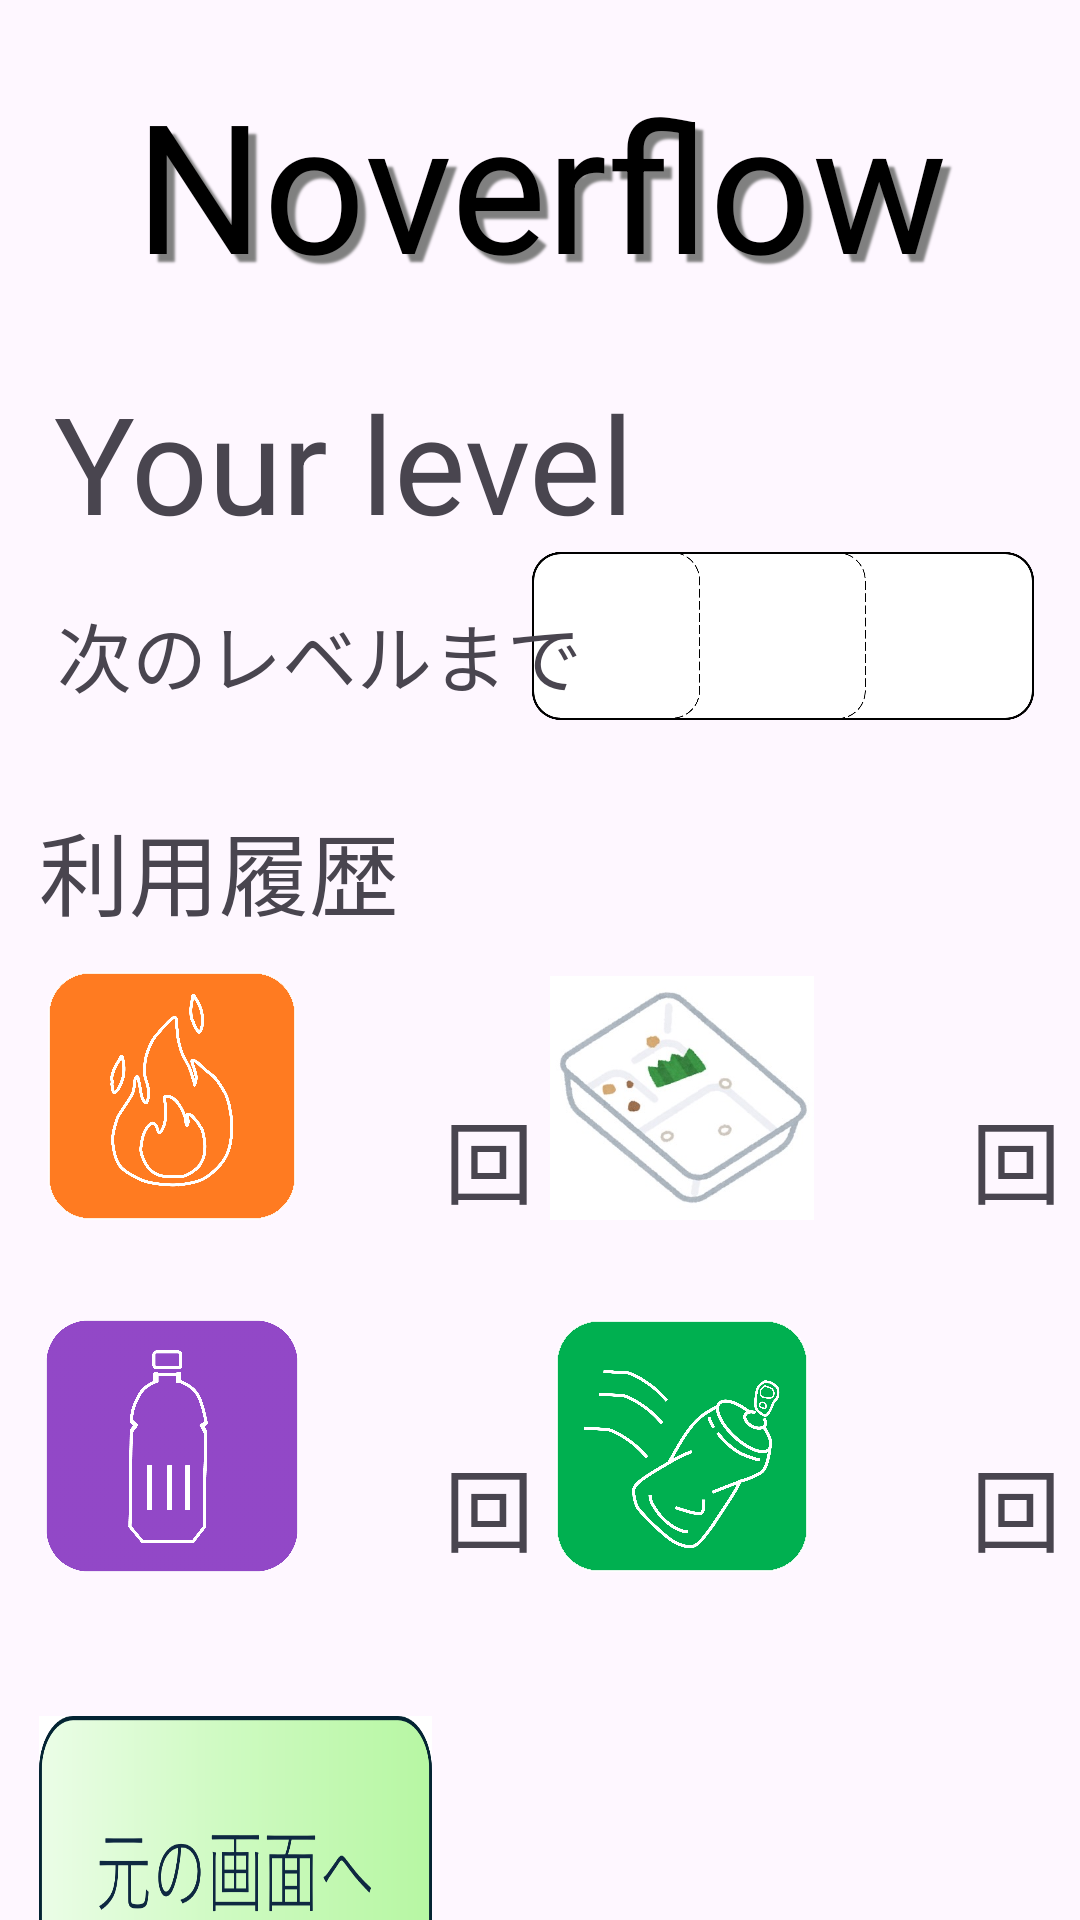

Screen size 1080*1920. Icon name, then its box in pixels as [x1, y1, x2, y2]:
bento: [560, 992, 807, 1203]
kan: [557, 1321, 807, 1571]
moeru: [49, 973, 295, 1219]
pet: [47, 1321, 297, 1571]
